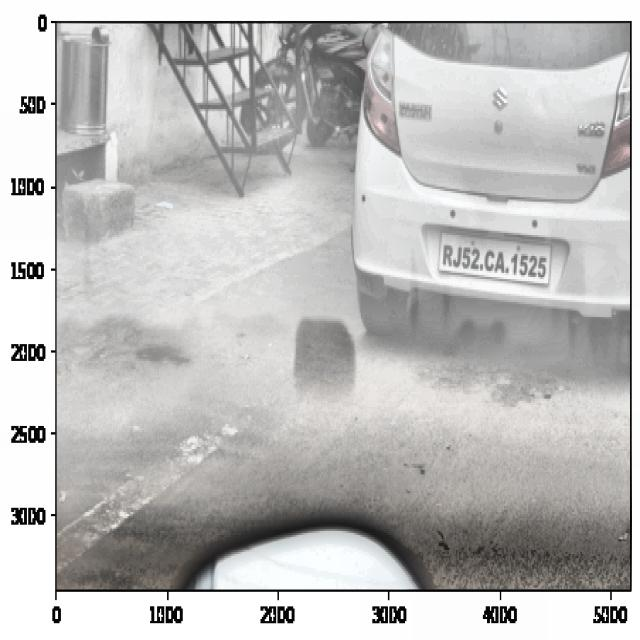license_plate: (439, 237, 551, 284)
